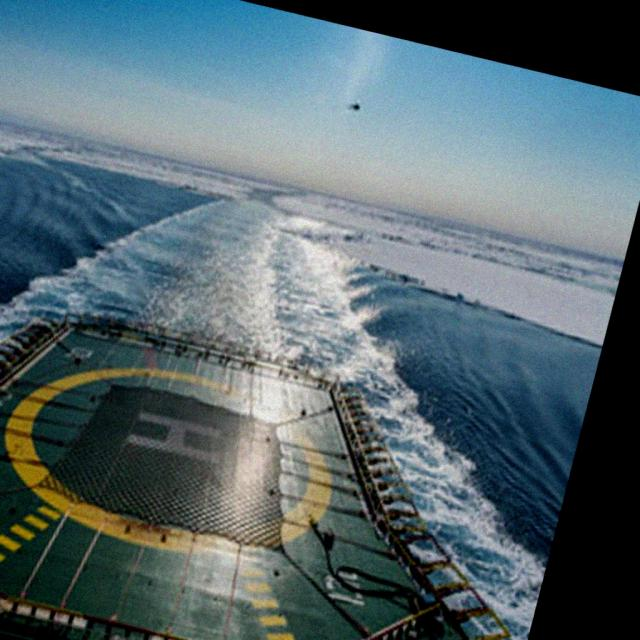helipad: (0, 361, 343, 561)
